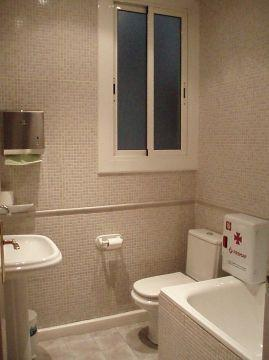Lavamanos: (2, 226, 63, 356)
Sanitario: (128, 217, 229, 350)
